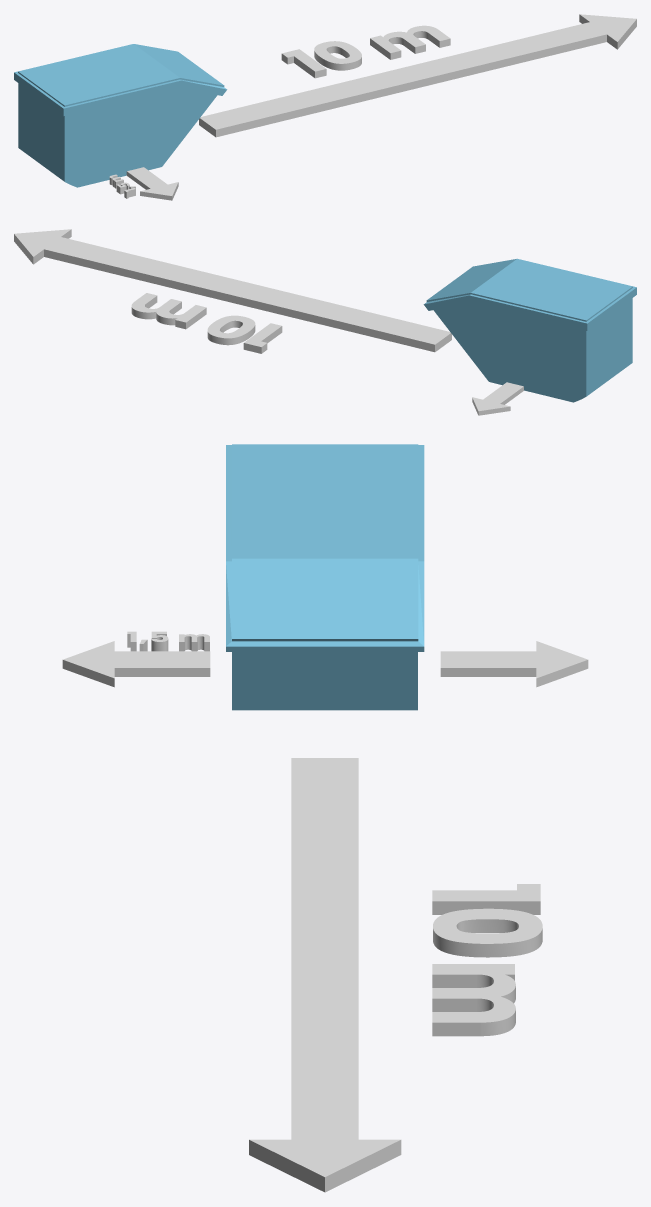
3 renders of one model, top to bottom at view 1: azimuth 30°, elevation 25°; view 2: azimuth 150°, elevation 25°; view 3: azimuth 270°, elevation 25°, orthographic. The views are drawn at different scales.
Visible parts, largest first — view 1: Cube.4, Plane.029, Text Spline, m, Plane.4; view 2: Cube.4, Plane.029, Text Spline, m, Plane.2; view 3: Cube.4, Plane.029, Text Spline, m, Plane.4, Plane.2.
Boxes of the visible parts, x1,y1,x2,y2 form: Cube.4: (14, 44, 227, 187); Plane.029: (199, 14, 636, 137); Text Spline: (281, 41, 361, 78); m: (370, 25, 450, 59); Plane.4: (126, 167, 178, 200); Cube.4: (423, 258, 636, 402); Plane.029: (14, 229, 451, 352); Text Spline: (207, 315, 282, 353); m: (131, 293, 206, 329); Plane.2: (472, 382, 523, 415); Cube.4: (226, 444, 424, 710); Plane.029: (249, 758, 401, 1192); Text Spline: (432, 884, 542, 957); m: (432, 964, 515, 1036); Plane.4: (62, 641, 210, 687); Plane.2: (440, 641, 588, 687).
Bounding box in the file's own units: 1381 × 188 × 525.
